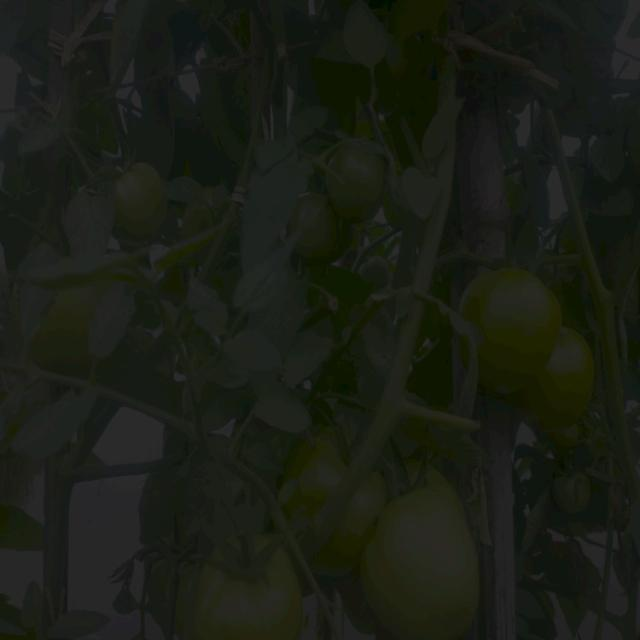tomato: (358, 487, 488, 640), (462, 263, 562, 394), (193, 526, 305, 640), (316, 486, 401, 575), (534, 327, 598, 419), (112, 166, 179, 246), (39, 290, 98, 372), (328, 145, 393, 219), (287, 428, 341, 517), (375, 451, 460, 498), (297, 194, 352, 266), (179, 187, 231, 237), (557, 463, 598, 518), (549, 423, 584, 448)
